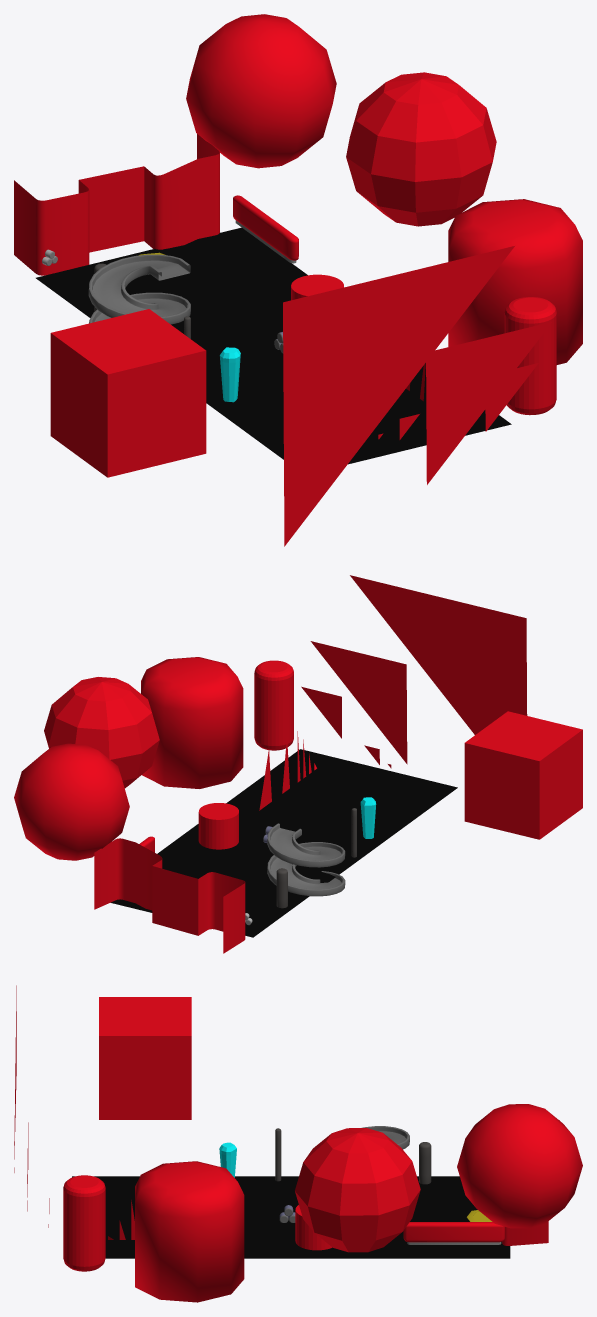
Rendered from SimpleGeometry.glb.
3 views of the same model, one above another, from view 1: azimuth 30°, elevation 25°; view 2: azimuth 150°, elevation 25°; view 3: azimuth 270°, elevation 25° (orthographic). The views are drawn at different scales.
Parts seen in each view (by area): view 1: Plane.002, Plane, Cube, Sphere, Sphere.001, TeamFortress.001, Cylinder.001, Plane.001, Sprital ramp, Cylinder, Wall.018, Plane.003 (+2 smaller); view 2: Plane, Plane.002, Cube, Cylinder.001, Sphere.001, TeamFortress.001, Sphere, Plane.001, Sprital ramp, Cylinder, Cylinder.002, Plane.003 (+1 smaller); view 3: Cylinder.001, Sphere, Sphere.001, Plane, Cube, Cylinder, Wall.018, TeamFortress.001, Cylinder.002, cyl.002, Sprital ramp, Cylinder.003.
Part boxes in pixels (x1=…): Plane.002: x1=283, y1=246, x2=514, y2=546; Plane: x1=36, y1=227, x2=511, y2=464; Cube: x1=50, y1=309, x2=206, y2=477; Sphere: x1=346, y1=72, x2=496, y2=226; Sphere.001: x1=186, y1=14, x2=336, y2=168; TeamFortress.001: x1=14, y1=134, x2=219, y2=275; Cylinder.001: x1=448, y1=199, x2=582, y2=364; Plane.001: x1=426, y1=322, x2=551, y2=484; Sprital ramp: x1=88, y1=254, x2=190, y2=324; Cylinder: x1=504, y1=297, x2=556, y2=415; Wall.018: x1=233, y1=195, x2=298, y2=263; Plane.003: x1=485, y1=363, x2=538, y2=431; Plane: x1=110, y1=749, x2=457, y2=937; Plane.002: x1=350, y1=575, x2=527, y2=734; Cube: x1=464, y1=711, x2=582, y2=839; Cylinder.001: x1=141, y1=657, x2=243, y2=788; Sphere.001: x1=14, y1=743, x2=129, y2=860; TeamFortress.001: x1=94, y1=838, x2=245, y2=953; Sphere: x1=44, y1=677, x2=159, y2=788; Plane.001: x1=310, y1=641, x2=407, y2=764; Sprital ramp: x1=267, y1=823, x2=345, y2=896; Cylinder: x1=254, y1=660, x2=293, y2=750; Cylinder.002: x1=198, y1=803, x2=238, y2=849; Plane.003: x1=301, y1=686, x2=341, y2=738; Cylinder.001: x1=135, y1=1161, x2=244, y2=1302; Sphere: x1=295, y1=1128, x2=420, y2=1252; Sphere.001: x1=457, y1=1104, x2=582, y2=1228; Plane: x1=72, y1=1176, x2=510, y2=1258; Cube: x1=99, y1=997, x2=191, y2=1119; Cylinder: x1=63, y1=1175, x2=105, y2=1271; Wall.018: x1=403, y1=1222, x2=504, y2=1244; TeamFortress.001: x1=502, y1=1120, x2=559, y2=1245; Cylinder.002: x1=295, y1=1205, x2=331, y2=1250; cyl.002: x1=419, y1=1142, x2=431, y2=1184; Sprital ramp: x1=362, y1=1126, x2=409, y2=1149; Cylinder.003: x1=219, y1=1142, x2=236, y2=1177.
Size of the model in its own units: 60.41 by 26.15 by 68.1.
